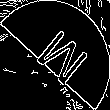M_SW: (23, 21, 87, 89)
